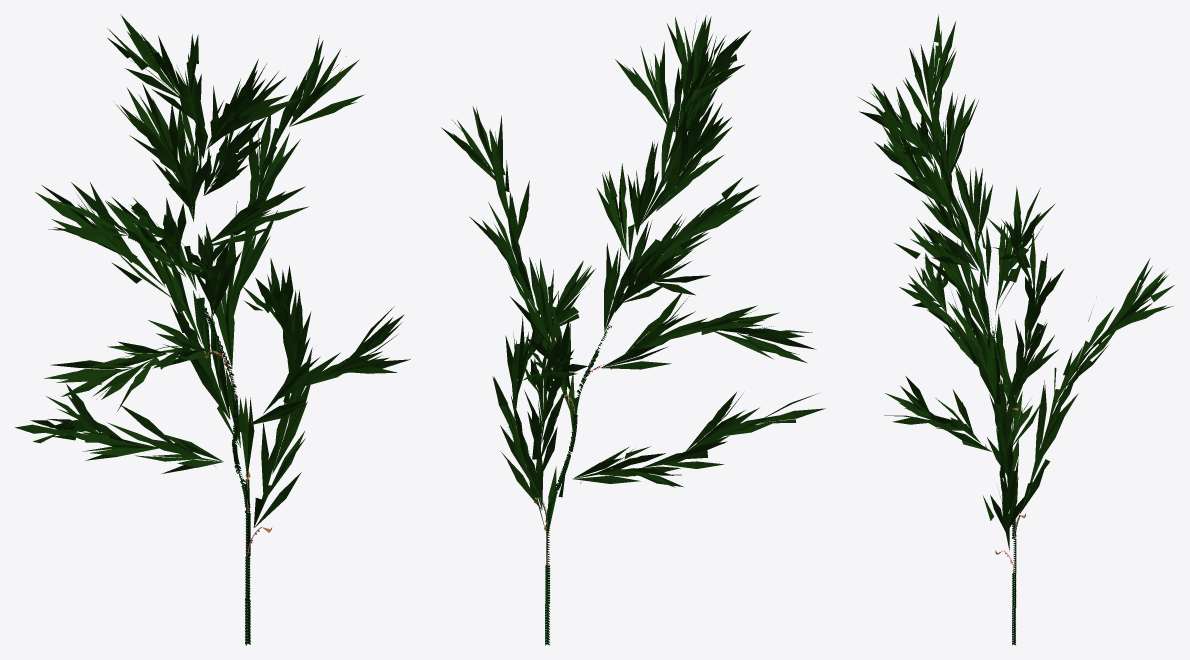
The model's file is tree_2.obj.
The picture shows the model from 3 angles, left to right: view 1: azimuth 30°, elevation 25°; view 2: azimuth 150°, elevation 25°; view 3: azimuth 270°, elevation 25°; orthographic projection. The views are drawn at different scales.
Visible parts, largest first — view 1: 1coral-li; view 2: 1coral-li; view 3: 1coral-li.
Part boxes in pixels (x1=…): 1coral-li: x1=15, y1=14, x2=410, y2=645; 1coral-li: x1=441, y1=15, x2=825, y2=645; 1coral-li: x1=857, y1=14, x2=1174, y2=645.
Size of the model in its own units: 515 by 904 by 463.
